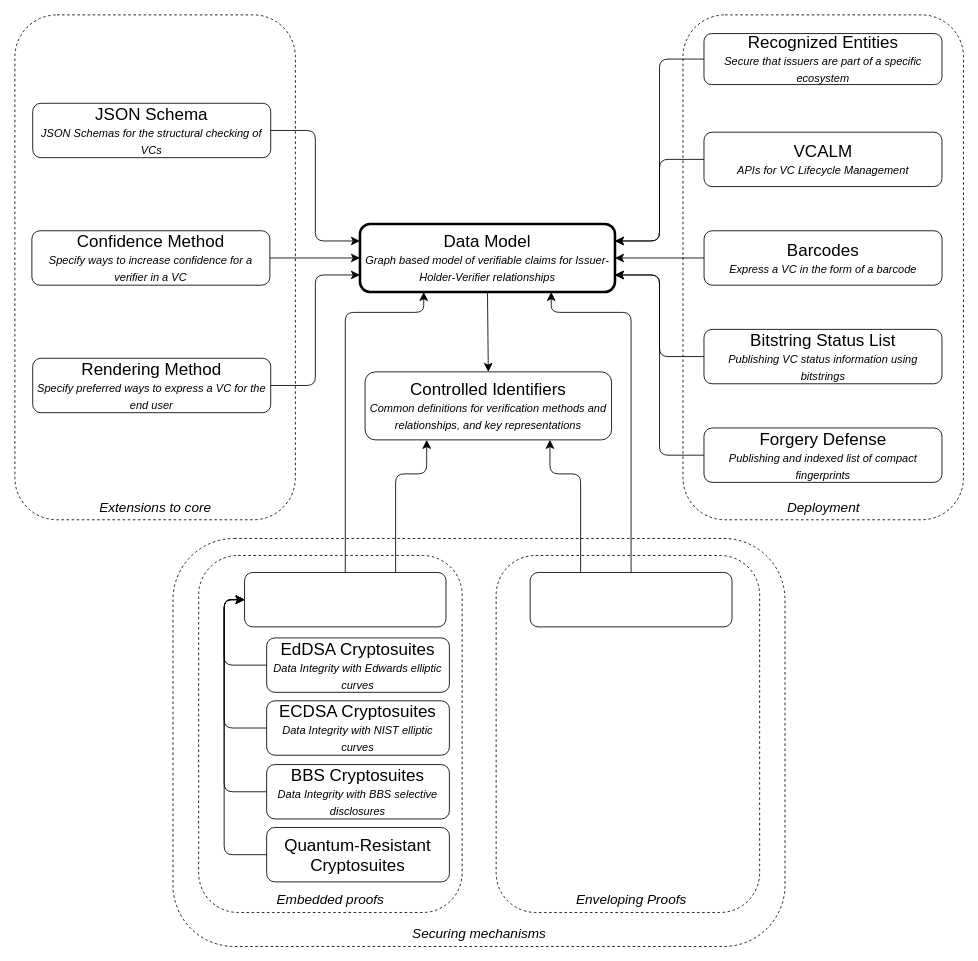
This 978x961 diagram has some shape labels left out. Each missing label, with the centre of its shape:
"Data Integrity General structure of embedded proofs" goes at [345,599].
"JOSE and COSE Enveloping proofs using JWS, SD-JWT, or CBOR" goes at [630,599].
